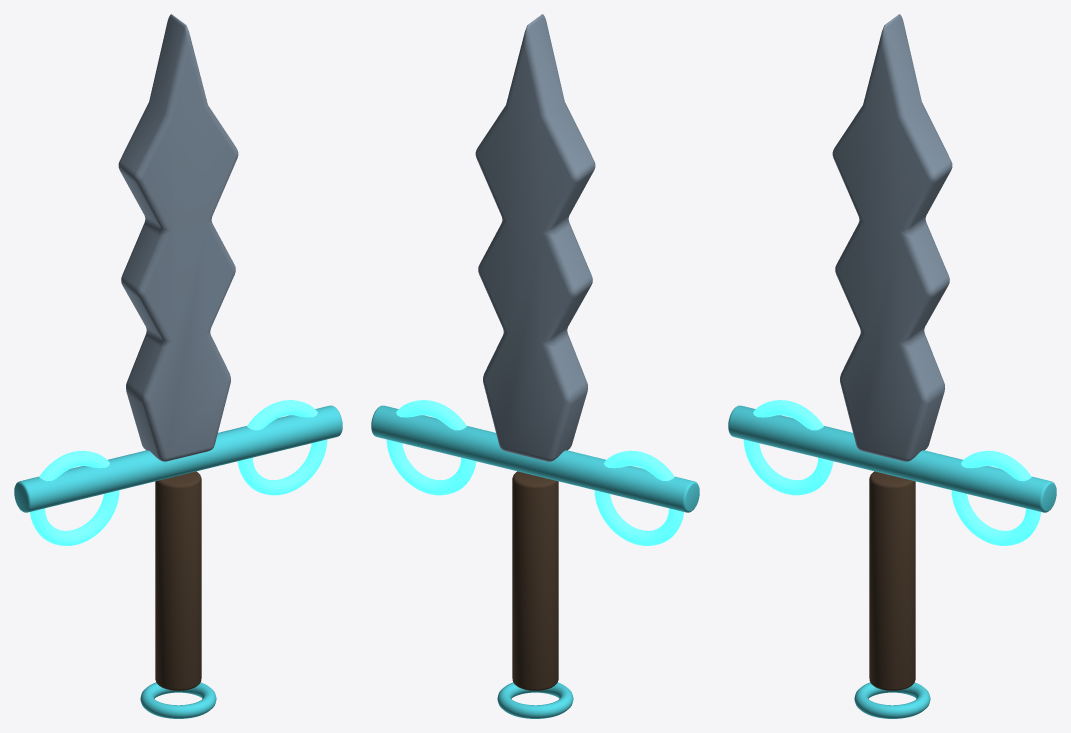
The model's file is sword_v6.glb.
The picture shows the model from 3 angles, left to right: view 1: azimuth 30°, elevation 25°; view 2: azimuth 150°, elevation 25°; view 3: azimuth 330°, elevation 25°; orthographic projection.
Visible parts, largest first — view 1: FLAMBERGE_BLADE_PRIMARY, GRIP_SECONDARY, FLAMBERGE_GUARD_ACCENT, FLAMBERGE_RING_EMISSIVE.001, FLAMBERGE_RING_EMISSIVE, POMMEL_ACCENT; view 2: FLAMBERGE_BLADE_PRIMARY, GRIP_SECONDARY, FLAMBERGE_GUARD_ACCENT, FLAMBERGE_RING_EMISSIVE.001, FLAMBERGE_RING_EMISSIVE, POMMEL_ACCENT; view 3: FLAMBERGE_BLADE_PRIMARY, GRIP_SECONDARY, FLAMBERGE_GUARD_ACCENT, FLAMBERGE_RING_EMISSIVE, FLAMBERGE_RING_EMISSIVE.001, POMMEL_ACCENT.
Boxes of the visible parts, box(x1,y1,x2,y2) form: FLAMBERGE_BLADE_PRIMARY: box(118, 14, 238, 461); GRIP_SECONDARY: box(155, 471, 201, 690); FLAMBERGE_GUARD_ACCENT: box(14, 405, 342, 512); FLAMBERGE_RING_EMISSIVE.001: box(237, 400, 327, 495); FLAMBERGE_RING_EMISSIVE: box(30, 450, 119, 545); POMMEL_ACCENT: box(140, 682, 216, 718); FLAMBERGE_BLADE_PRIMARY: box(475, 14, 595, 461); GRIP_SECONDARY: box(512, 471, 558, 690); FLAMBERGE_GUARD_ACCENT: box(371, 405, 699, 512); FLAMBERGE_RING_EMISSIVE.001: box(386, 400, 476, 495); FLAMBERGE_RING_EMISSIVE: box(594, 450, 683, 545); POMMEL_ACCENT: box(497, 682, 573, 718); FLAMBERGE_BLADE_PRIMARY: box(832, 14, 952, 461); GRIP_SECONDARY: box(869, 471, 915, 690); FLAMBERGE_GUARD_ACCENT: box(728, 405, 1056, 512); FLAMBERGE_RING_EMISSIVE: box(743, 400, 833, 495); FLAMBERGE_RING_EMISSIVE.001: box(951, 450, 1040, 545); POMMEL_ACCENT: box(854, 682, 930, 718).
Bounding box in the file's own units: 2.36 × 4.92 × 0.495.
